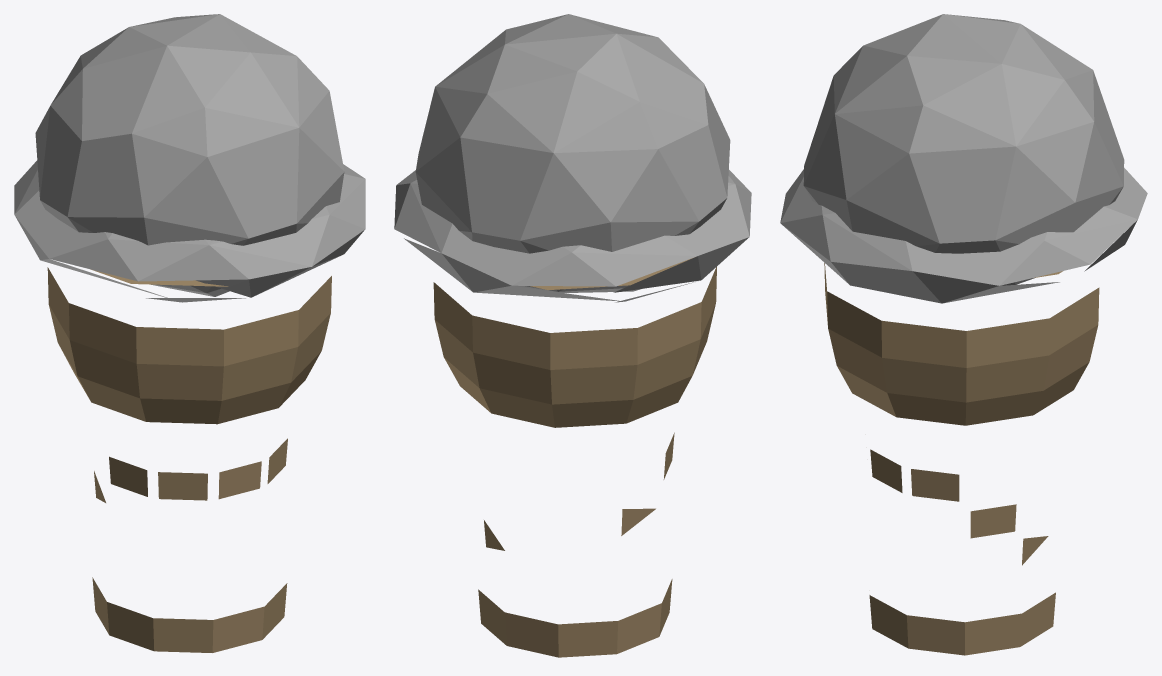
The picture shows the model from 3 angles, left to right: view 1: azimuth 30°, elevation 25°; view 2: azimuth 150°, elevation 25°; view 3: azimuth 270°, elevation 25°; orthographic projection.
Parts seen in each view (by area): view 1: IceCream_3; view 2: IceCream_3; view 3: IceCream_3.
Part boxes in pixels (box(x1,y1,x2,y2)): IceCream_3: box(14, 14, 365, 652); IceCream_3: box(394, 14, 751, 657); IceCream_3: box(780, 14, 1147, 655).
Size of the model in its own units: 2.5 by 4.5 by 2.5.
